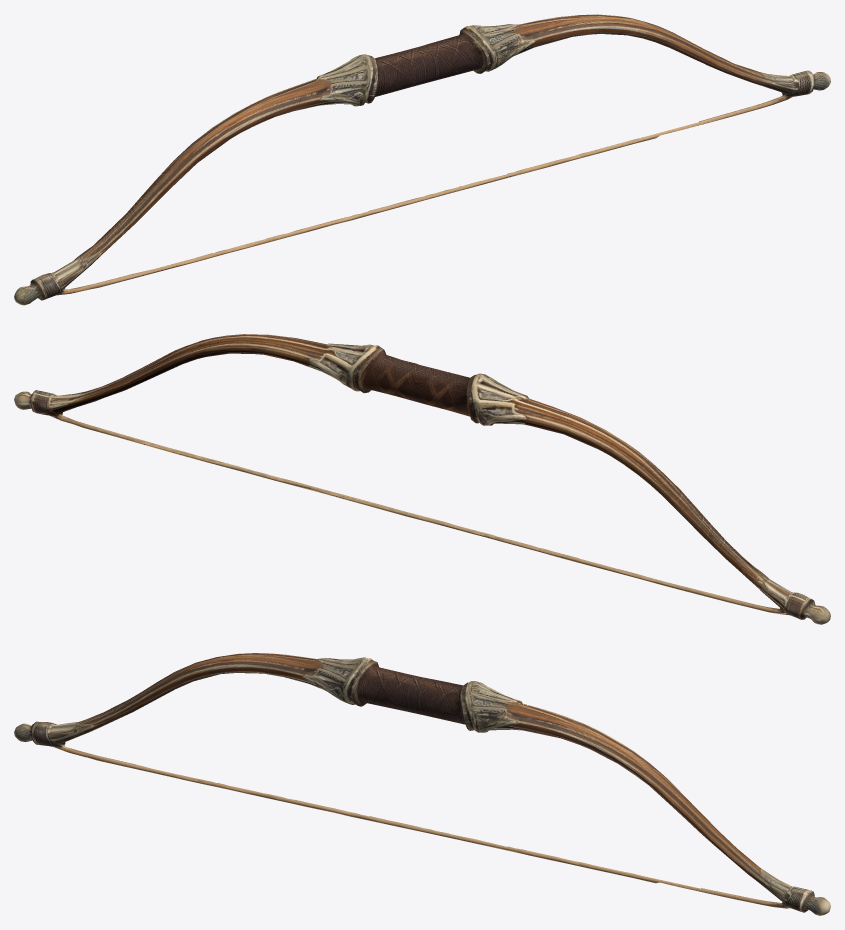
The model's file is Standard.glb.
3 renders of one model, top to bottom at view 1: azimuth 30°, elevation 25°; view 2: azimuth 150°, elevation 25°; view 3: azimuth 330°, elevation 25°, orthographic.
Parts seen in each view (by area): view 1: Mesh1.0; view 2: Mesh1.0; view 3: Mesh1.0.
Boxes of the visible parts, box(x1,y1,x2,y2) form: Mesh1.0: box(14, 14, 830, 305); Mesh1.0: box(14, 334, 830, 624); Mesh1.0: box(14, 653, 830, 915).
Bounding box in the file's own units: 1.91 × 0.3813 × 0.0958.
Materials: 1 (1 with a texture image).
